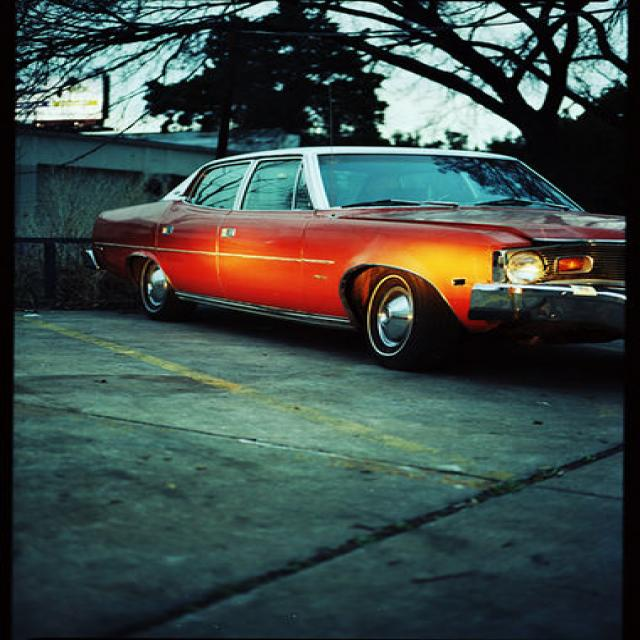Car: (82, 134, 629, 367)
